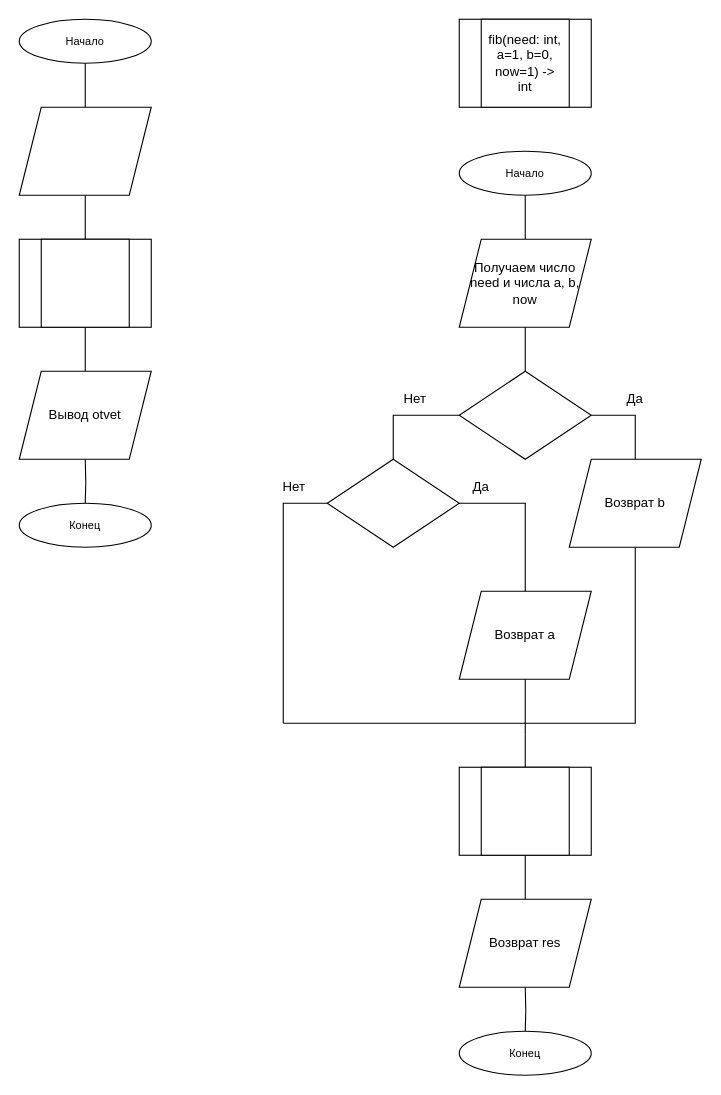
Some shapes in this 721 by 1095 pixel diagram are drawn without their labels. The shapes that lost their labels are listed below. From the top down, each one's centre as x and y in pixels, then its label:
At (x=84, y=150): "Ввод числа в inp".
At (x=84, y=282): "otvet = fib(inp)".
At (x=524, y=414): "need равен 0".
At (x=392, y=502): "need не больше now".
At (x=524, y=810): "res = fib(need a+b, a, now + 1)".
